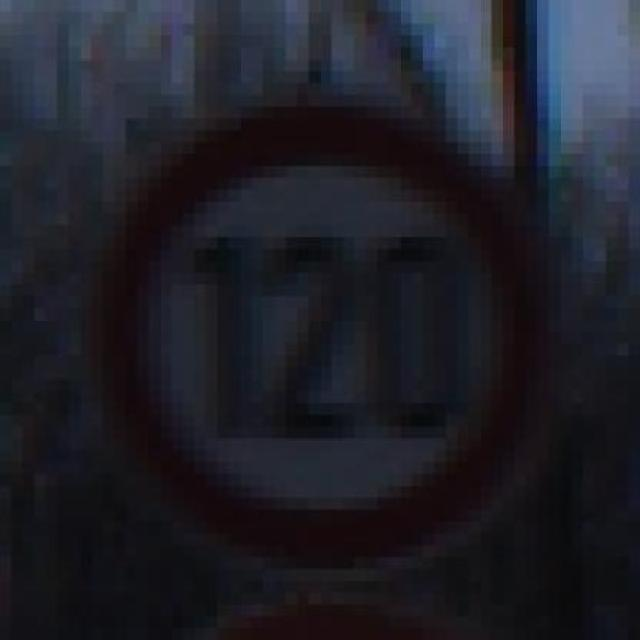forb_speed_over_120: (95, 105, 541, 563)
